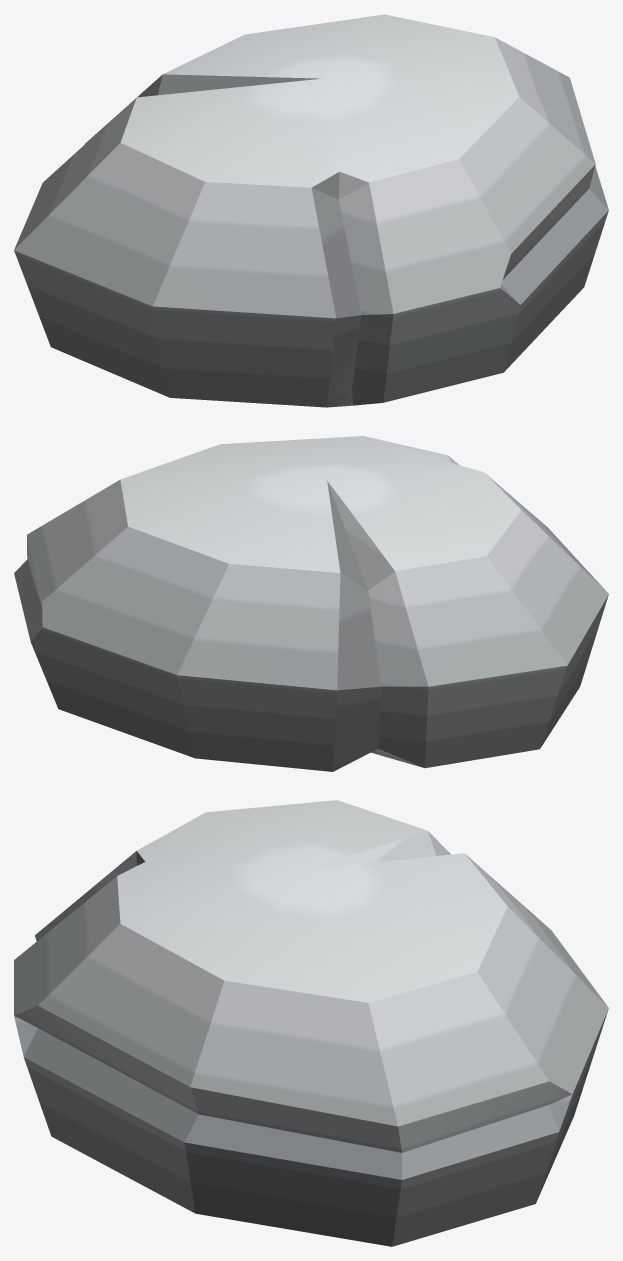
File: rock_001.fbx
3 views of the same model, one above another, from view 1: azimuth 30°, elevation 25°; view 2: azimuth 150°, elevation 25°; view 3: azimuth 270°, elevation 25° (orthographic). The views are drawn at different scales.
Parts seen in each view (by area): view 1: rock.001; view 2: rock.001; view 3: rock.001.
Boxes of the visible parts, x1,y1,x2,y2 form: rock.001: (14,14,608,407); rock.001: (14,436,608,771); rock.001: (14,800,608,1246).
Bounding box in the file's own units: 32.41 × 15.07 × 26.57.
